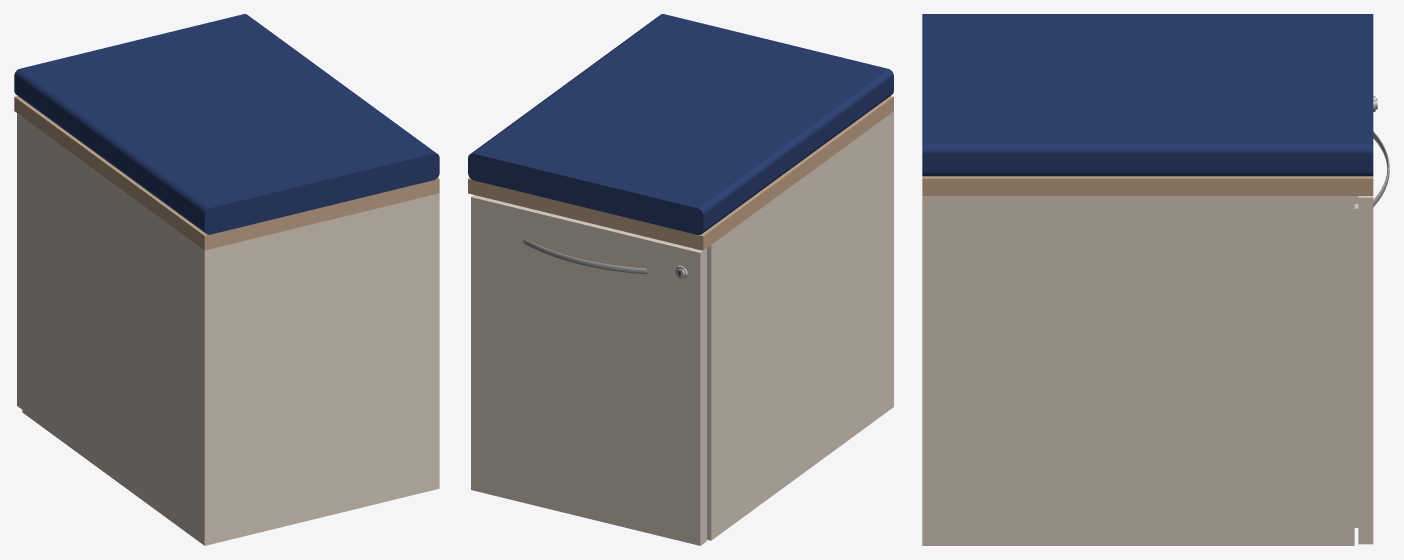
The model's file is Regal_klein.obj.
3 views of the same model, side by side, from view 1: azimuth 30°, elevation 25°; view 2: azimuth 150°, elevation 25°; view 3: azimuth 270°, elevation 25° (orthographic). The views are drawn at different scales.
Parts seen in each view (by area): view 1: Mesh9 Model, Mesh10 Model; view 2: Mesh9 Model, Mesh10 Model; view 3: Mesh9 Model, Mesh10 Model.
Part boxes in pixels (x1,y1,x2,y2): Mesh9 Model: (14, 14, 439, 545); Mesh10 Model: (17, 113, 22, 409); Mesh9 Model: (468, 14, 893, 540); Mesh10 Model: (471, 195, 706, 545); Mesh9 Model: (922, 14, 1373, 545); Mesh10 Model: (1354, 96, 1389, 544).
Bounding box in the file's own units: 0.425 × 0.6166 × 0.6187.
